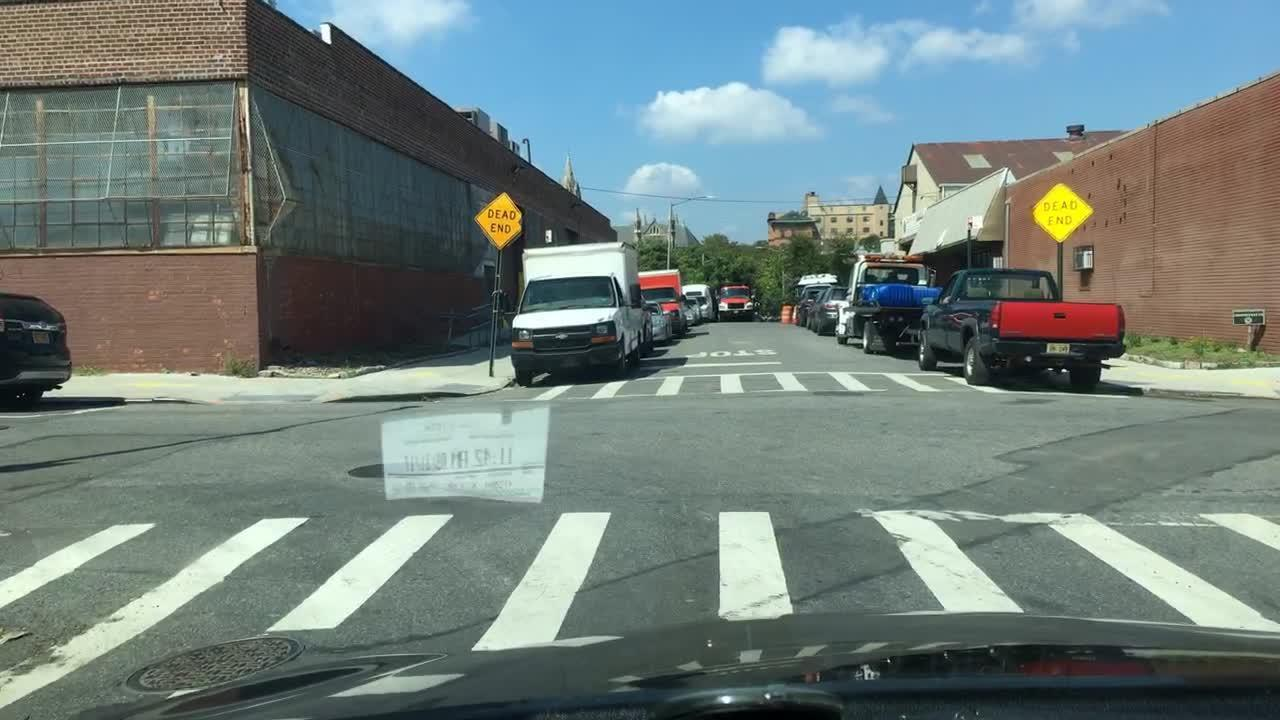chevrolet: (552, 331, 570, 343)
